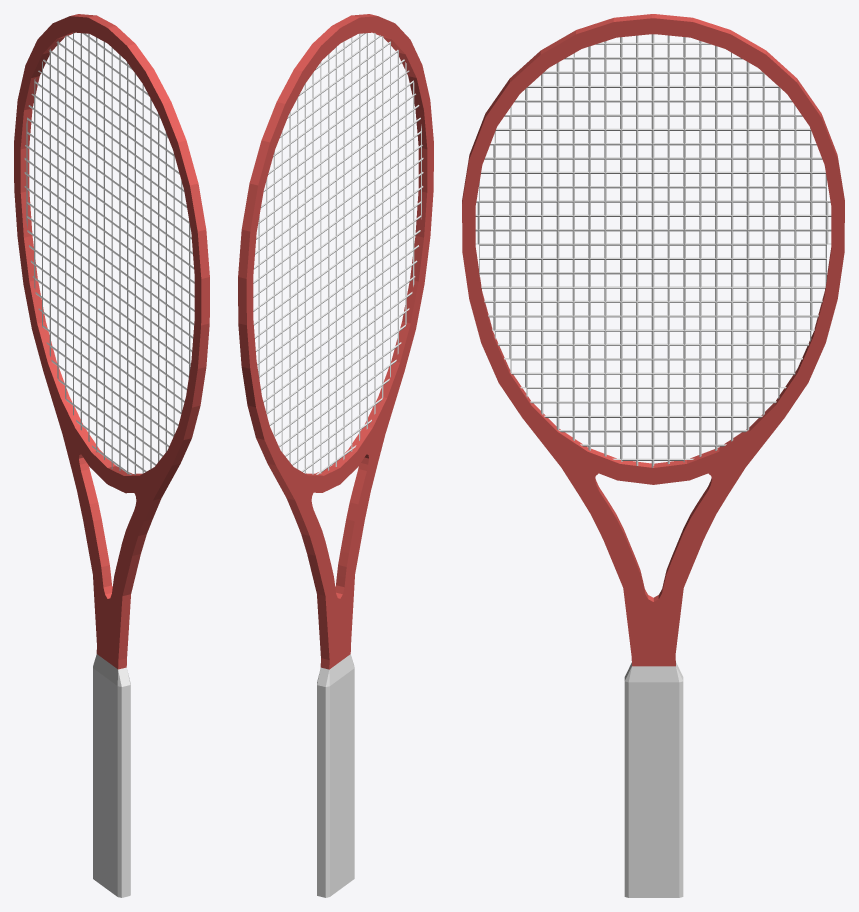
File: racket_red.glb
The picture shows the model from 3 angles, left to right: view 1: azimuth 30°, elevation 25°; view 2: azimuth 150°, elevation 25°; view 3: azimuth 270°, elevation 25°; orthographic projection. The views are drawn at different scales.
Parts seen in each view (by area): view 1: Plane; view 2: Plane; view 3: Plane.
Boxes of the visible parts, x1,y1,x2,y2 form: Plane: (14,14,209,897); Plane: (238,14,433,897); Plane: (462,14,844,897).
Size of the model in its own units: 0.1207 by 7.66 by 3.02.
